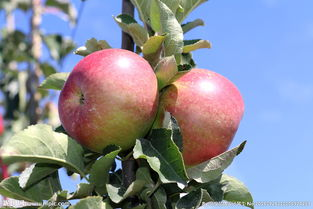obscured(0)_apple: (55, 47, 159, 155)
obscured(2)_apple: (162, 66, 246, 168)
